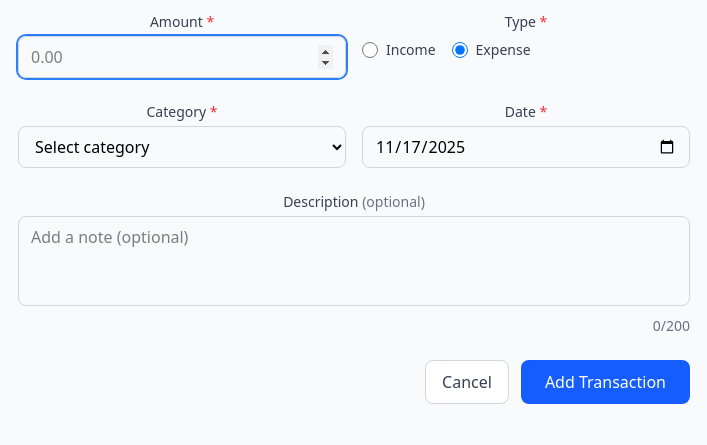
Test: TransactionForm › Validation › should show error for amount with more than 2 decimal places
This screenshot has width=707, height=445.
Type "10.123" into the number field labelled "Amount *". click: {"x": 182, "y": 57}
box: [18,36,346,78]
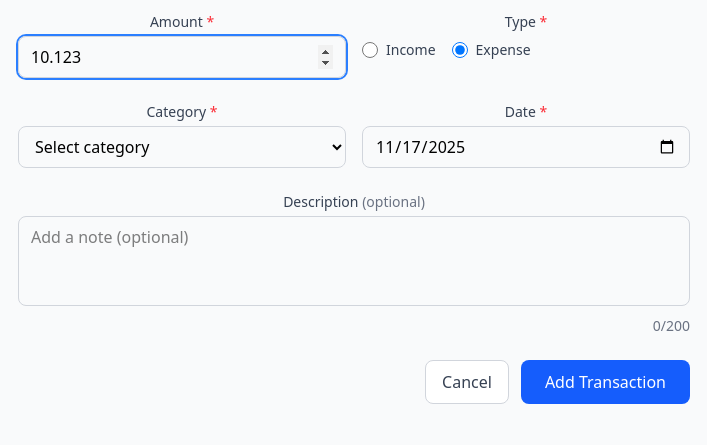
Press Tab
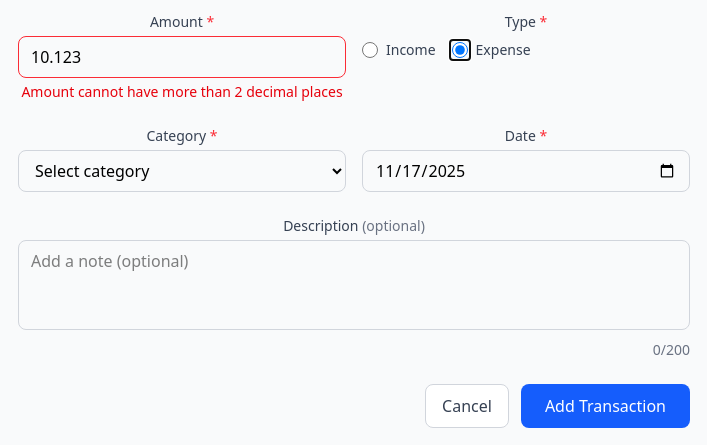
expect the text "Amount cannot have more than 2 decimal places" is shown: met, box [18,82,346,102]
